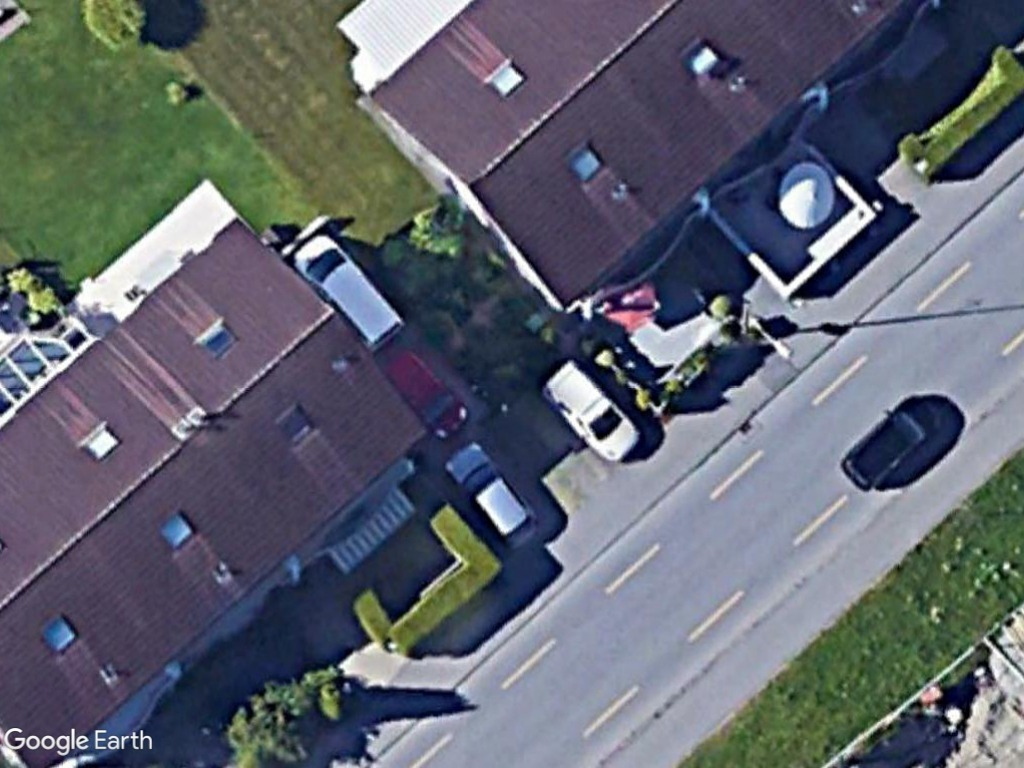car: (538, 356, 645, 466), (442, 441, 543, 553)
van: (291, 233, 404, 352)
